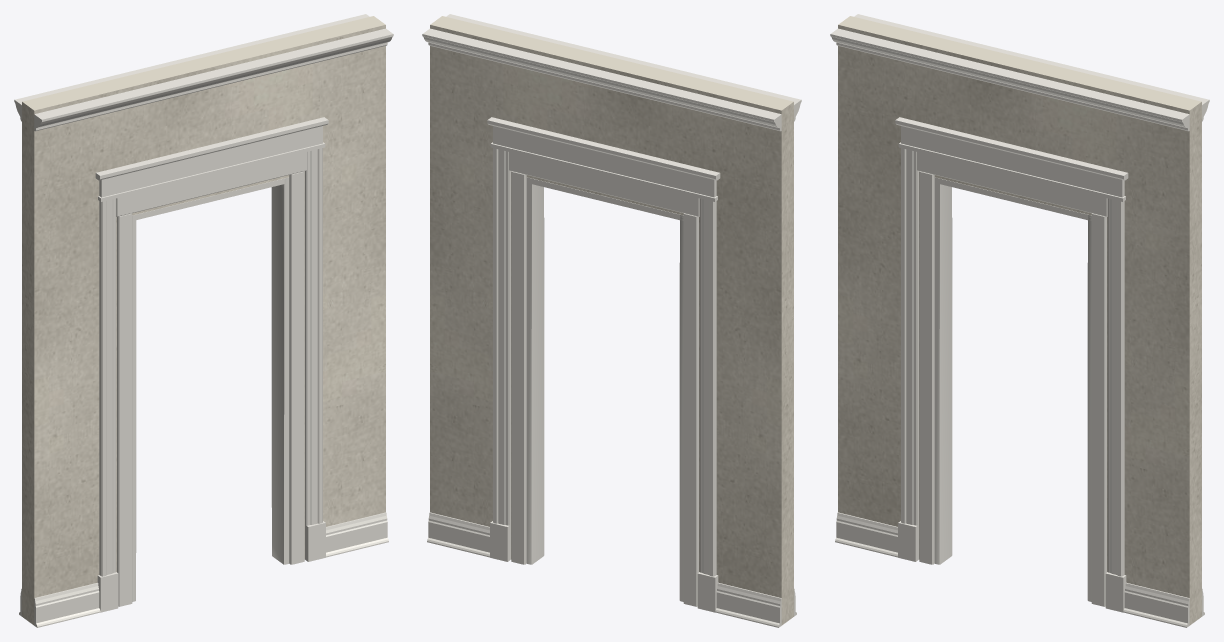
The model's file is interior_wall_doorway.glb.
The picture shows the model from 3 angles, left to right: view 1: azimuth 30°, elevation 25°; view 2: azimuth 150°, elevation 25°; view 3: azimuth 330°, elevation 25°; orthographic projection.
Parts seen in each view (by area): view 1: interior_wall_doorway_plaster, molduras, interior_wall_doorway_frame; view 2: interior_wall_doorway_plaster, molduras, interior_wall_doorway_frame; view 3: interior_wall_doorway_plaster, molduras, interior_wall_doorway_frame.
Part boxes in pixels (<box>): interior_wall_doorway_plaster: <box>22,16,385,625</box>; molduras: <box>14,14,393,627</box>; interior_wall_doorway_frame: <box>116,152,306,606</box>; interior_wall_doorway_plaster: <box>430,16,793,625</box>; molduras: <box>422,14,801,627</box>; interior_wall_doorway_frame: <box>509,152,699,606</box>; interior_wall_doorway_plaster: <box>838,16,1201,625</box>; molduras: <box>830,14,1209,627</box>; interior_wall_doorway_frame: <box>917,152,1107,606</box>.
Size of the model in its own units: 2 by 2.8 by 0.27.
3 materials, 1 textured.
